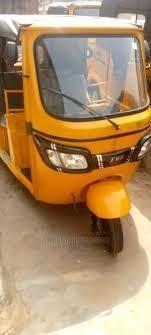keke: (1, 10, 151, 260)
